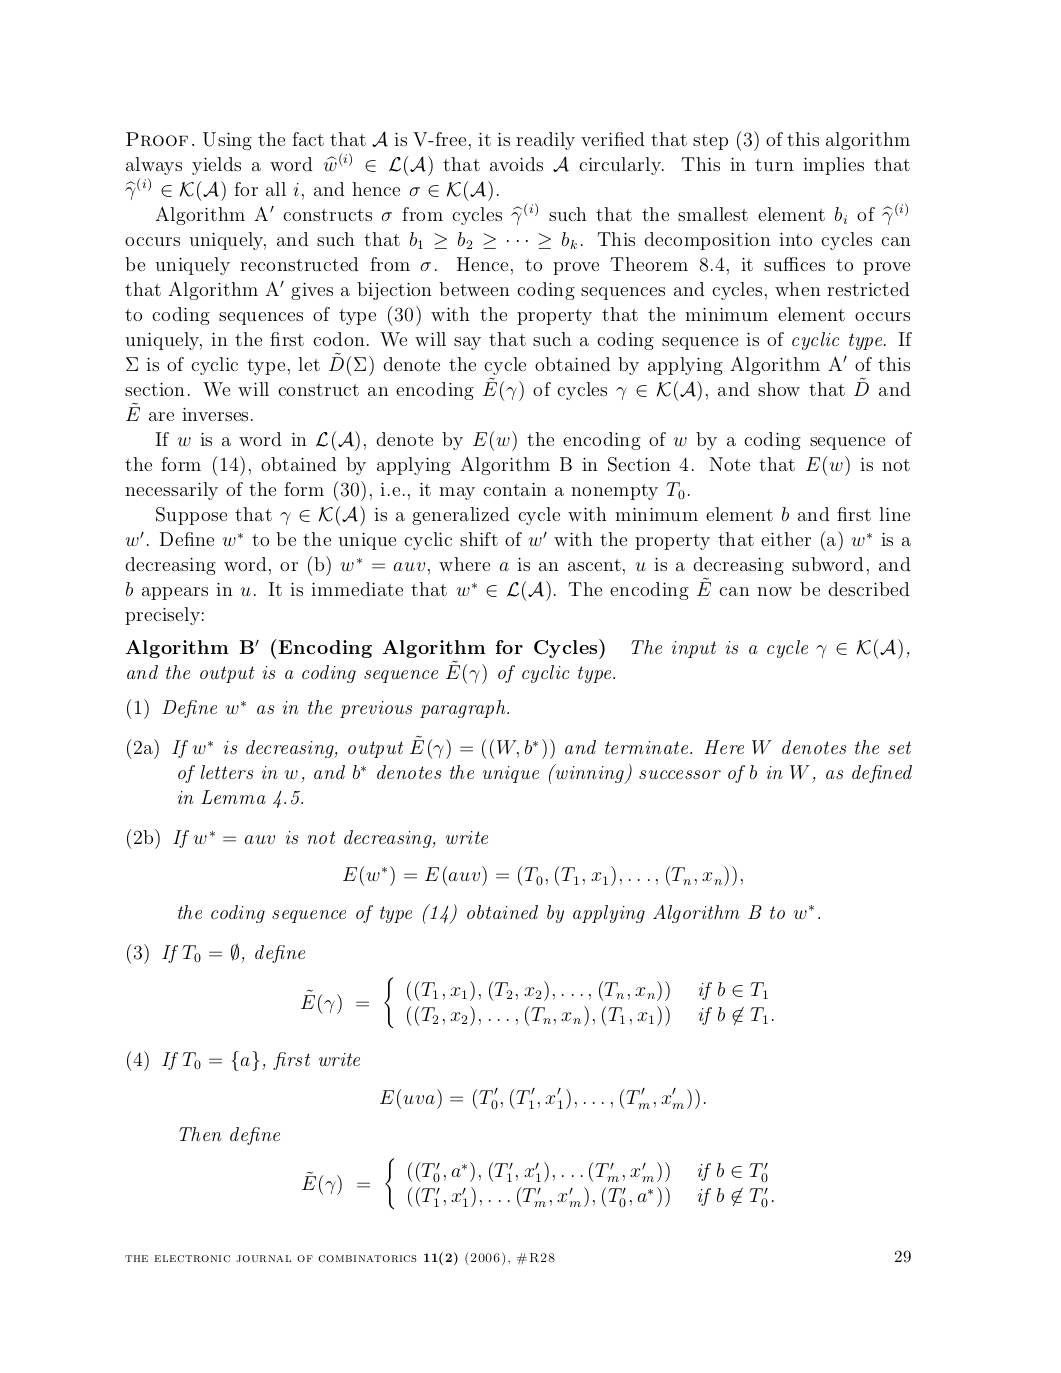formula: (302, 1157, 773, 1210), (301, 976, 773, 1029), (343, 865, 742, 886), (380, 1085, 705, 1110)
